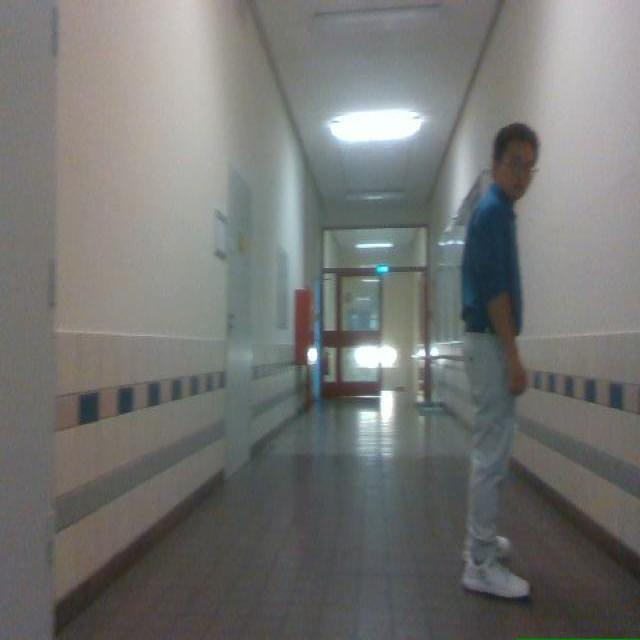humans: (462, 123, 537, 597)
